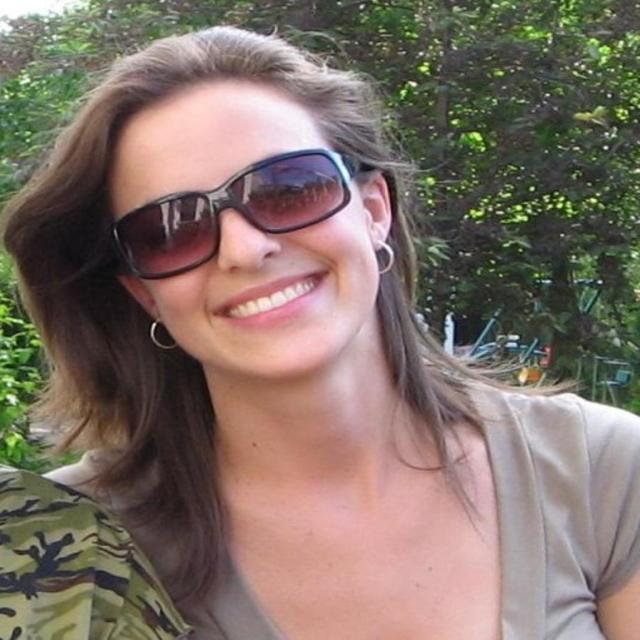Face: (114, 94, 409, 377)
